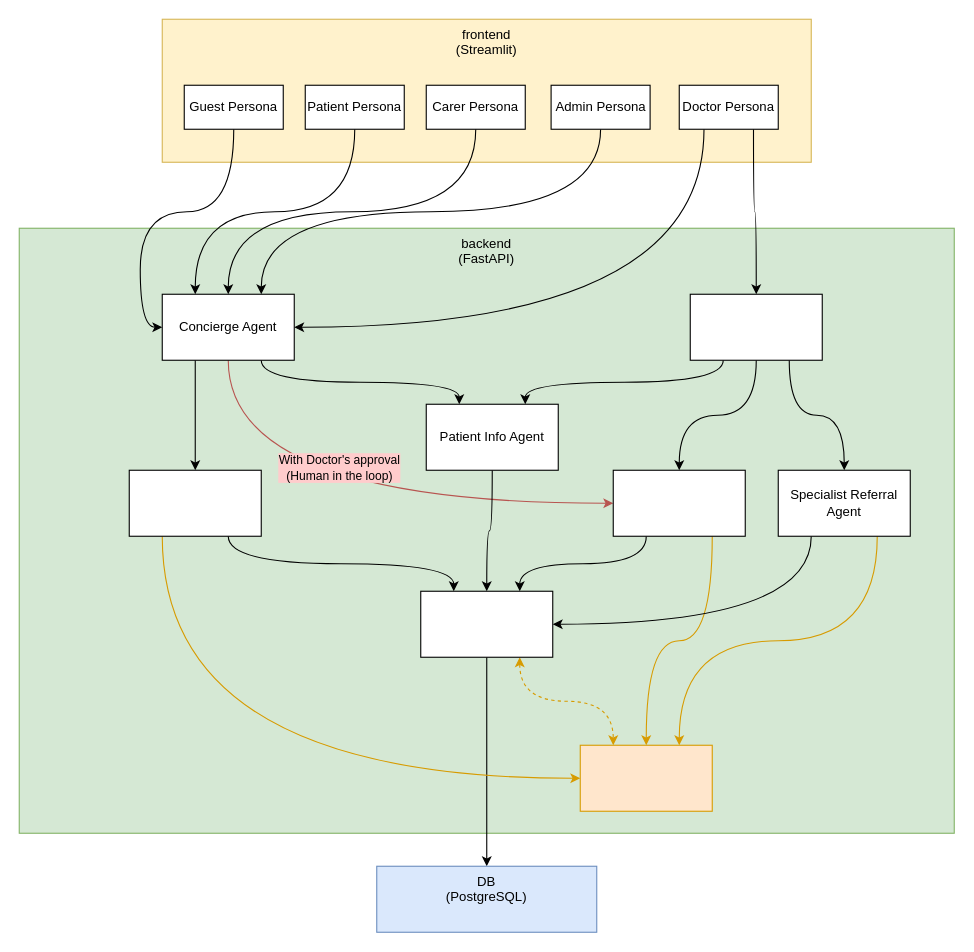
Some shapes in this 974 by 952 pixel diagram are drawn without their labels. Each missing label, with the centre of its shape:
"Apppointment Scheduler Agent" belongs at point 194,502.
"Database Agent" belongs at point 486,623.
"Doctor Assistant Agent" belongs at point 755,326.
"Medicine Scheduler Agent" belongs at point 678,502.
"Notification Agent" belongs at point 645,777.
